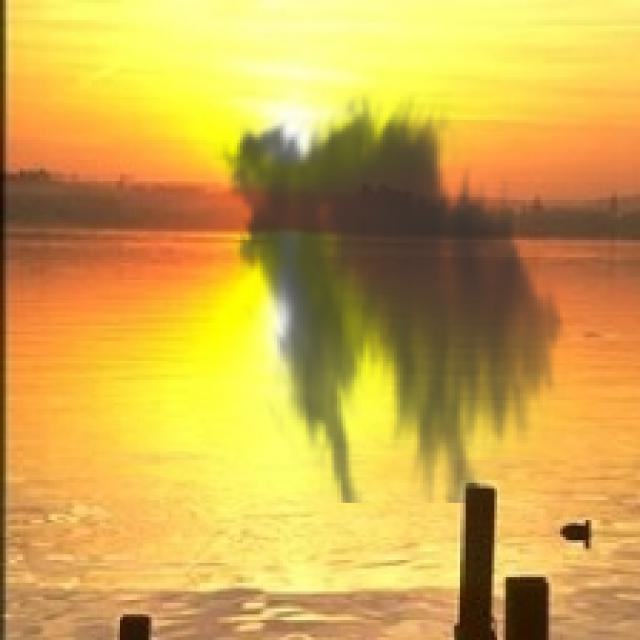smoke: (212, 88, 574, 503)
